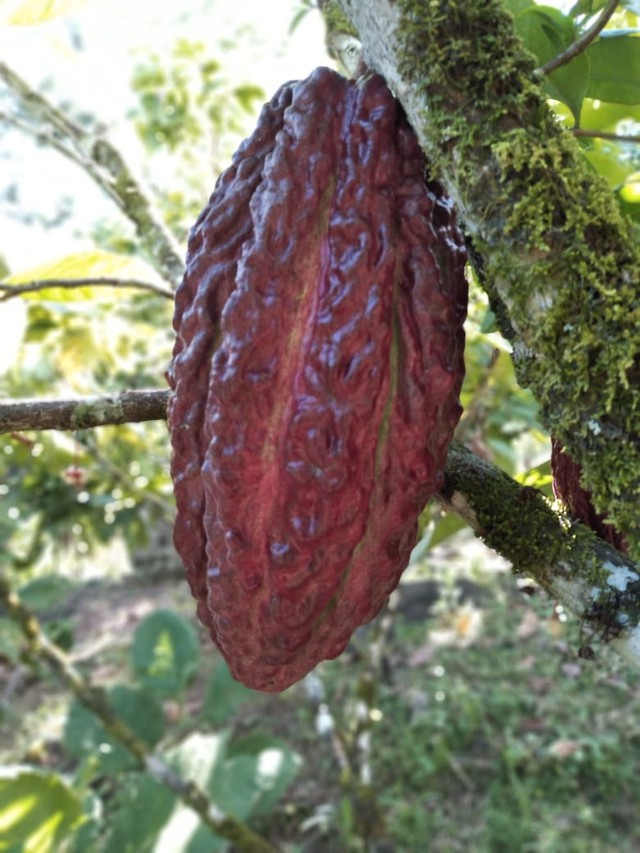Health: (158, 59, 475, 708)
